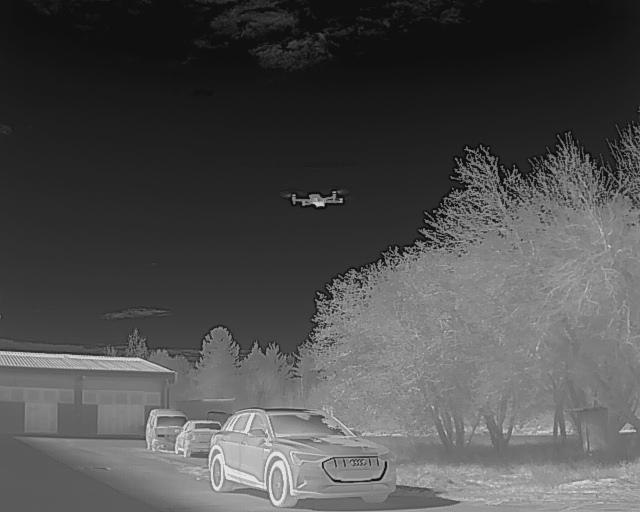drone: (279, 186, 350, 218)
